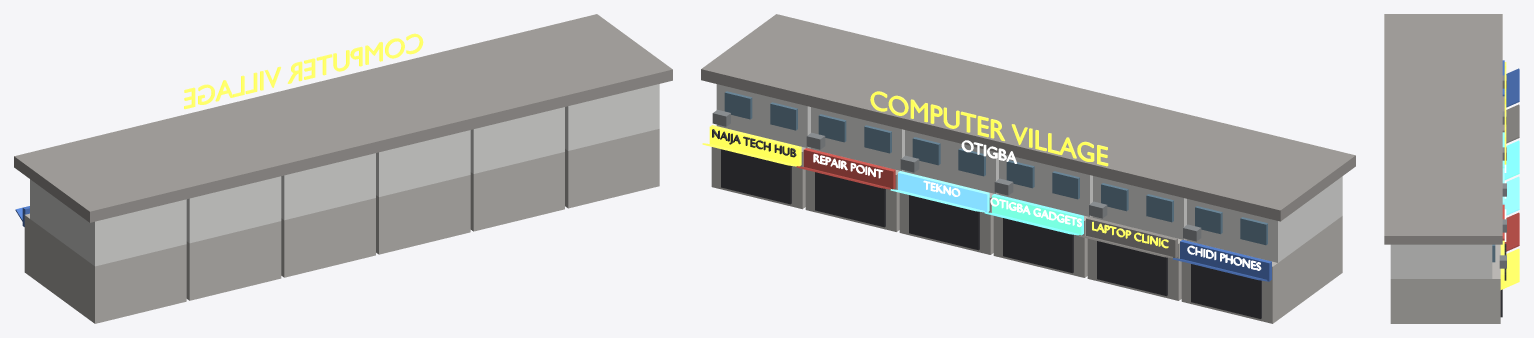
File: computer_village.glb
3 renders of one model, left to right at view 1: azimuth 30°, elevation 25°; view 2: azimuth 150°, elevation 25°; view 3: azimuth 270°, elevation 25°, orthographic. The views are drawn at different scales.
Parts seen in each view (by area): view 1: BLD_computer_village; view 2: BLD_computer_village; view 3: BLD_computer_village.
Part boxes in pixels (left/top/right/bottom): BLD_computer_village: left=14, top=14, right=672, bottom=323; BLD_computer_village: left=701, top=14, right=1355, bottom=323; BLD_computer_village: left=1384, top=14, right=1519, bottom=323.
Bounding box in the file's own units: 38.2 × 8.77 × 9.83.
